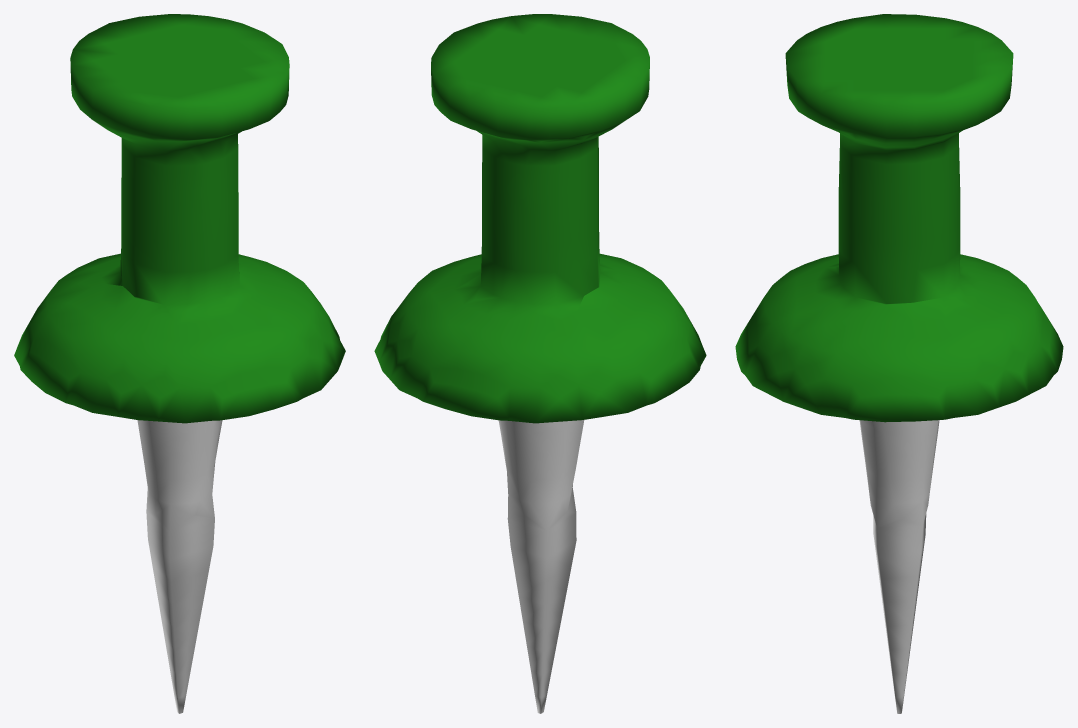
Rendered from Pushpin.fbx.
3 views of the same model, side by side, from view 1: azimuth 30°, elevation 25°; view 2: azimuth 150°, elevation 25°; view 3: azimuth 270°, elevation 25° (orthographic).
Parts seen in each view (by area): view 1: Handle, MetalPin; view 2: Handle, MetalPin; view 3: Handle, MetalPin.
Part boxes in pixels (x1=…): Handle: x1=14, y1=14, x2=345, y2=423; MetalPin: x1=137, y1=420, x2=222, y2=713; Handle: x1=374, y1=14, x2=706, y2=423; MetalPin: x1=498, y1=420, x2=584, y2=713; Handle: x1=735, y1=14, x2=1063, y2=422; MetalPin: x1=859, y1=420, x2=939, y2=713.
Bounding box in the file's own units: 2 × 4.39 × 2.
